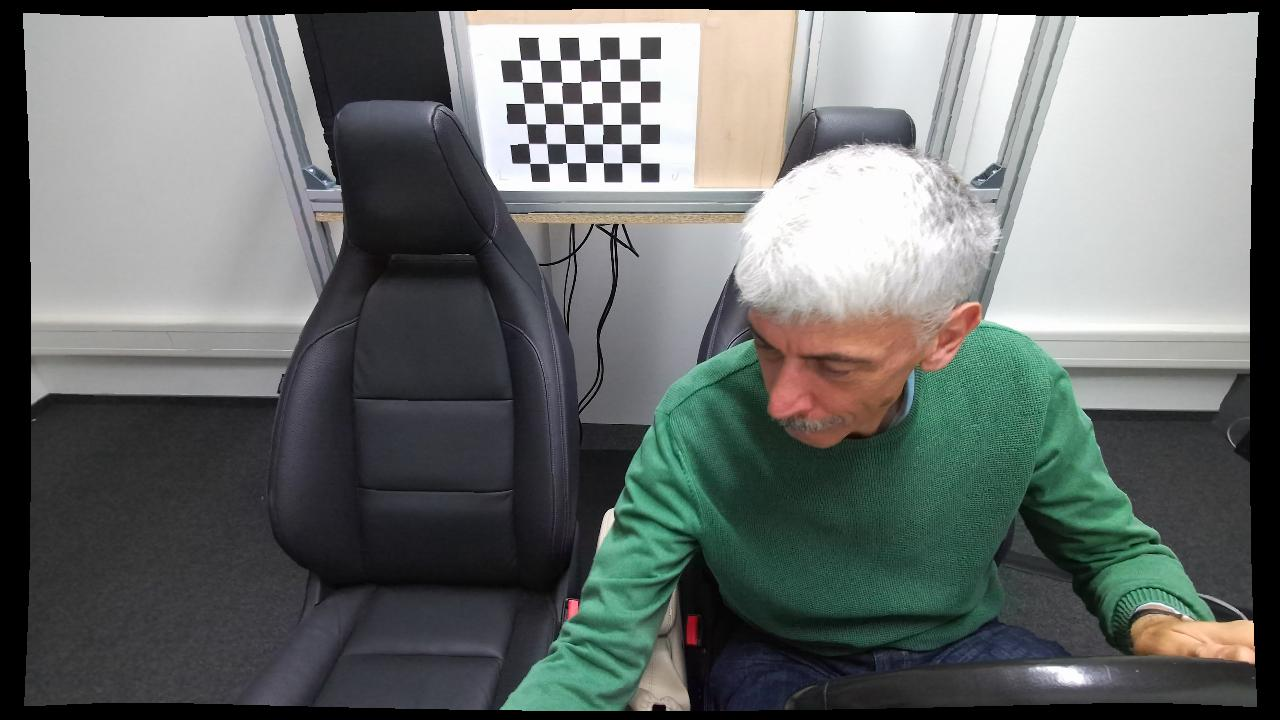Distracted: (500, 143, 1179, 712)
